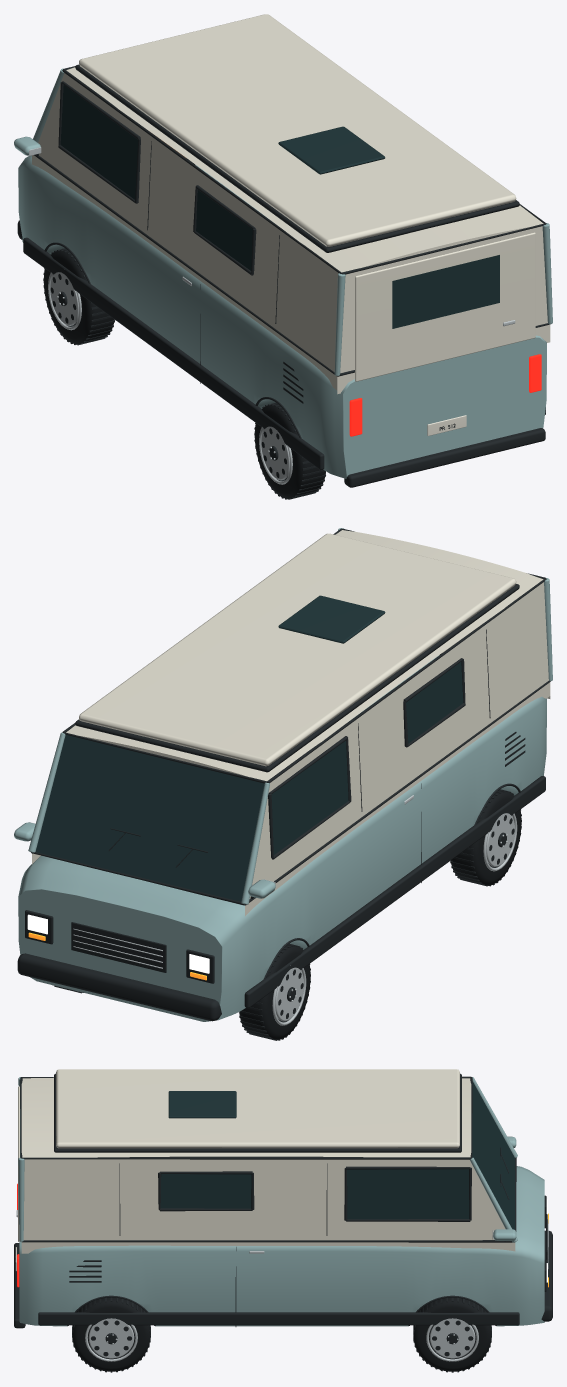
File: traffic-camper.glb
The picture shows the model from 3 angles, top to bottom: view 1: azimuth 30°, elevation 25°; view 2: azimuth 150°, elevation 25°; view 3: azimuth 270°, elevation 25°; orthographic projection. The views are drawn at different scales.
Parts seen in each view (by area): view 1: Traffic accent, Traffic enamel.004, Traffic polymer.004, Traffic smoked glazing.004, Traffic tire rubber.004, Traffic satin alloy.004, Traffic ruby lamps.004; view 2: Traffic accent, Traffic enamel.004, Traffic smoked glazing.004, Traffic polymer.004, Traffic tire rubber.004, Traffic satin alloy.004, Traffic ivory lamps.004; view 3: Traffic accent, Traffic enamel.004, Traffic polymer.004, Traffic smoked glazing.004, Traffic tire rubber.004, Traffic satin alloy.004.
Boxes of the visible parts, left/top/right/bottom form: Traffic accent: left=32, top=14, right=550, bottom=394; Traffic enamel.004: left=14, top=68, right=552, bottom=478; Traffic polymer.004: left=17, top=64, right=549, bottom=499; Traffic smoked glazing.004: left=60, top=85, right=499, bottom=328; Traffic tire rubber.004: left=43, top=248, right=325, bottom=498; Traffic satin alloy.004: left=29, top=147, right=515, bottom=484; Traffic ruby lamps.004: left=349, top=354, right=541, bottom=436; Traffic accent: left=32, top=530, right=550, bottom=916; Traffic enamel.004: left=14, top=528, right=552, bottom=1021; Traffic smoked glazing.004: left=35, top=595, right=463, bottom=901; Traffic polymer.004: left=17, top=528, right=550, bottom=1040; Traffic tire rubber.004: left=57, top=789, right=521, bottom=1039; Traffic satin alloy.004: left=29, top=795, right=517, bottom=1025; Traffic ivory lamps.004: left=27, top=914, right=209, bottom=973; Traffic accent: left=18, top=1069, right=515, bottom=1253; Traffic enamel.004: left=18, top=1077, right=544, bottom=1326; Traffic polymer.004: left=14, top=1073, right=552, bottom=1372; Traffic smoked glazing.004: left=160, top=1081, right=514, bottom=1229; Traffic tire rubber.004: left=72, top=1297, right=491, bottom=1371; Traffic satin alloy.004: left=16, top=1210, right=548, bottom=1361.
Bounding box in the file's own units: 2.24 × 2.38 × 5.15.
